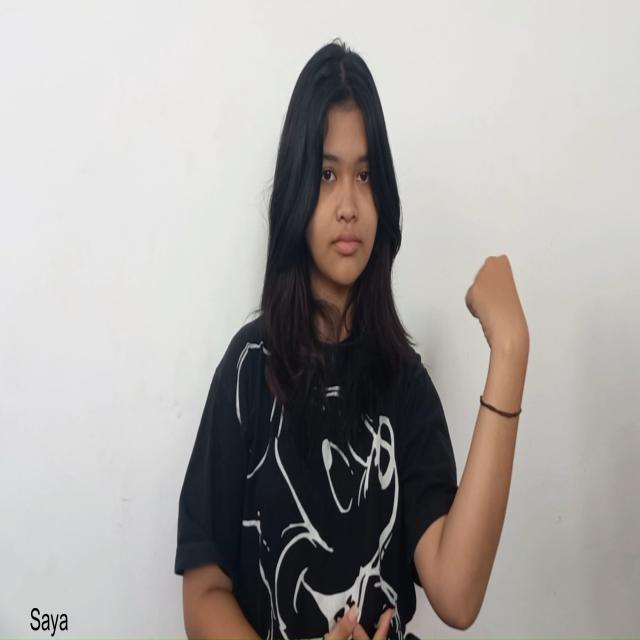Saya -BISINDO-: (463, 248, 532, 391)
